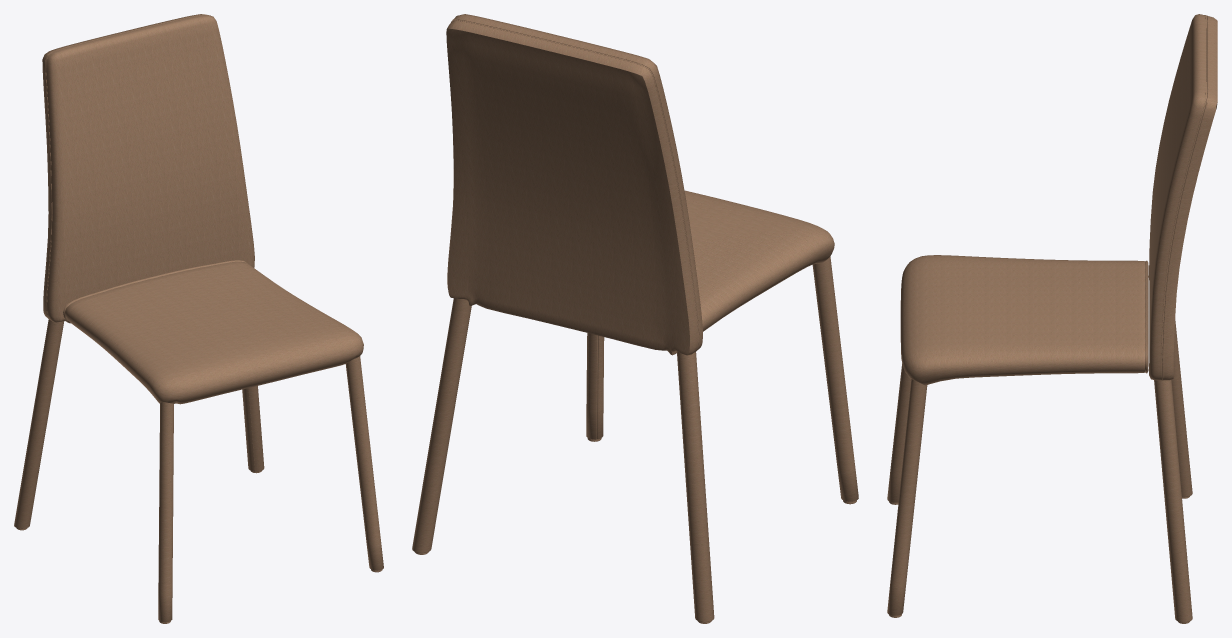
The model's file is BHID01249.glb.
3 renders of one model, left to right at view 1: azimuth 30°, elevation 25°; view 2: azimuth 150°, elevation 25°; view 3: azimuth 270°, elevation 25°, orthographic. The views are drawn at different scales.
Parts seen in each view (by area): view 1: BP_BHID01249; view 2: BP_BHID01249; view 3: BP_BHID01249.
Part boxes in pixels (left/top/right/bottom): BP_BHID01249: left=14, top=14, right=383, bottom=623; BP_BHID01249: left=412, top=14, right=858, bottom=623; BP_BHID01249: left=887, top=14, right=1217, bottom=623.
Size of the model in its own units: 0.5373 by 0.9546 by 0.5661.
1 material, 1 textured.
